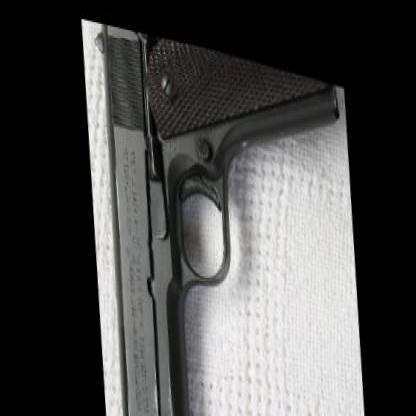pistol: (84, 14, 364, 412)
